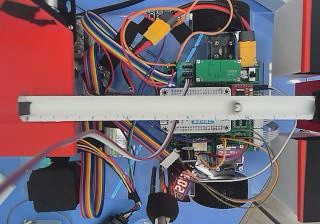ironball: (230, 101, 242, 112)
